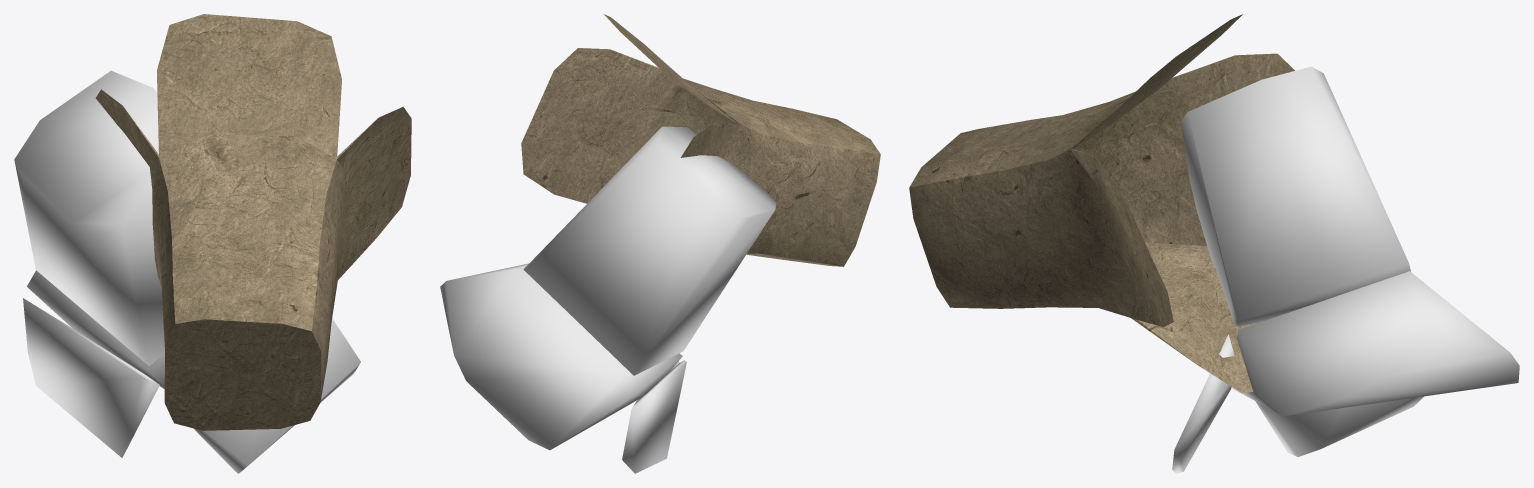
Rendered from SM_FoodBox.fbx.
The picture shows the model from 3 angles, left to right: view 1: azimuth 30°, elevation 25°; view 2: azimuth 150°, elevation 25°; view 3: azimuth 270°, elevation 25°; orthographic projection. The views are drawn at different scales.
Visible parts, largest first — view 1: SM_FoodBox, SM_FoodBox_ConvexHulls; view 2: SM_FoodBox_ConvexHulls, SM_FoodBox; view 3: SM_FoodBox_ConvexHulls, SM_FoodBox.
Boxes of the visible parts, x1,y1,x2,y2 form: SM_FoodBox: (95,14,411,430); SM_FoodBox_ConvexHulls: (14,70,360,473); SM_FoodBox_ConvexHulls: (440,126,776,473); SM_FoodBox: (521,14,880,266); SM_FoodBox_ConvexHulls: (1172,66,1519,473); SM_FoodBox: (909,14,1294,392).
Size of the model in its own units: 0.2987 by 0.391 by 0.4682.
